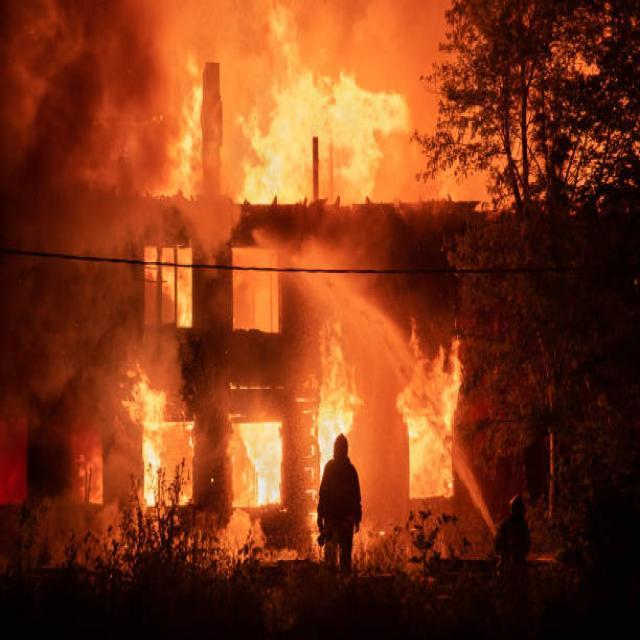Fire: (231, 14, 413, 209), (396, 317, 459, 507), (122, 366, 170, 512), (160, 68, 203, 190), (315, 328, 352, 450), (234, 413, 282, 497)
Smoke: (0, 0, 167, 444)
